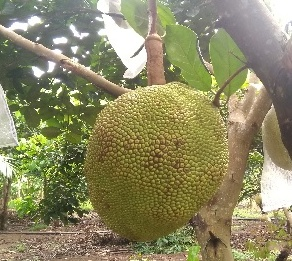Mit: (86, 84, 230, 243)
